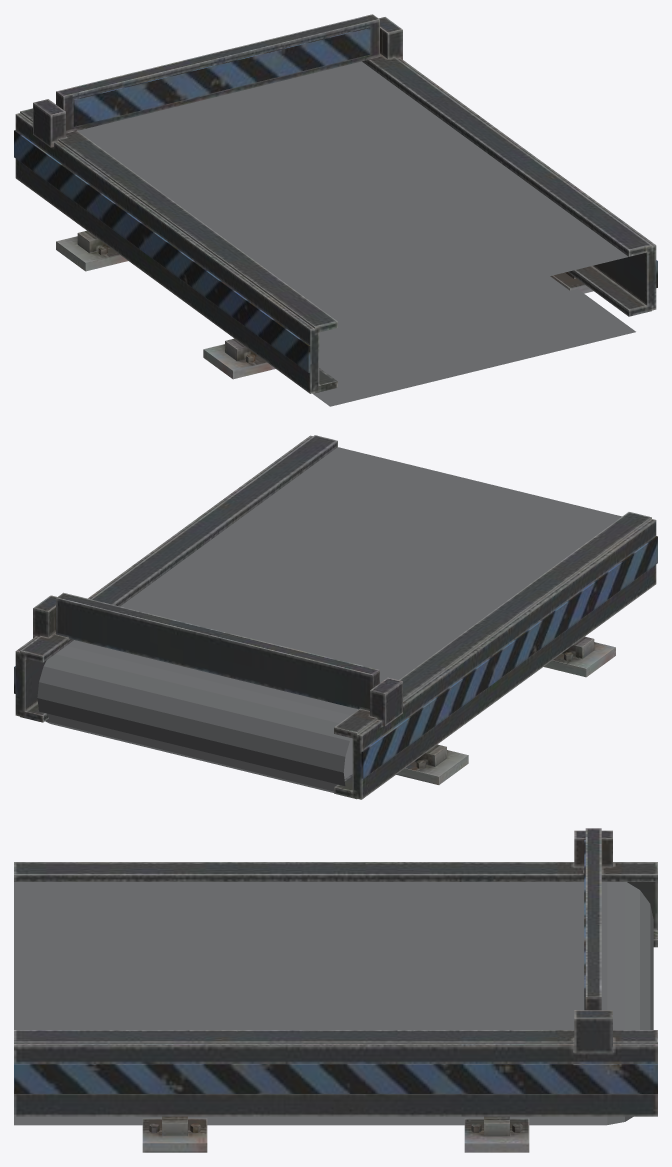
File: esteira_fim_expressa.glb
3 renders of one model, top to bottom at view 1: azimuth 30°, elevation 25°; view 2: azimuth 150°, elevation 25°; view 3: azimuth 270°, elevation 25°, orthographic. The views are drawn at different scales.
Parts seen in each view (by area): view 1: esteira_fim_expressa_corpo; view 2: esteira_fim_expressa_corpo; view 3: esteira_fim_expressa_corpo.
Part boxes in pixels (box(x1,y1,x2,y2)): esteira_fim_expressa_corpo: box(14, 14, 657, 406); esteira_fim_expressa_corpo: box(14, 435, 657, 799); esteira_fim_expressa_corpo: box(14, 828, 657, 1152).
Bounding box in the file's own units: 0.75 × 0.236 × 1.
2 materials, 1 textured.
